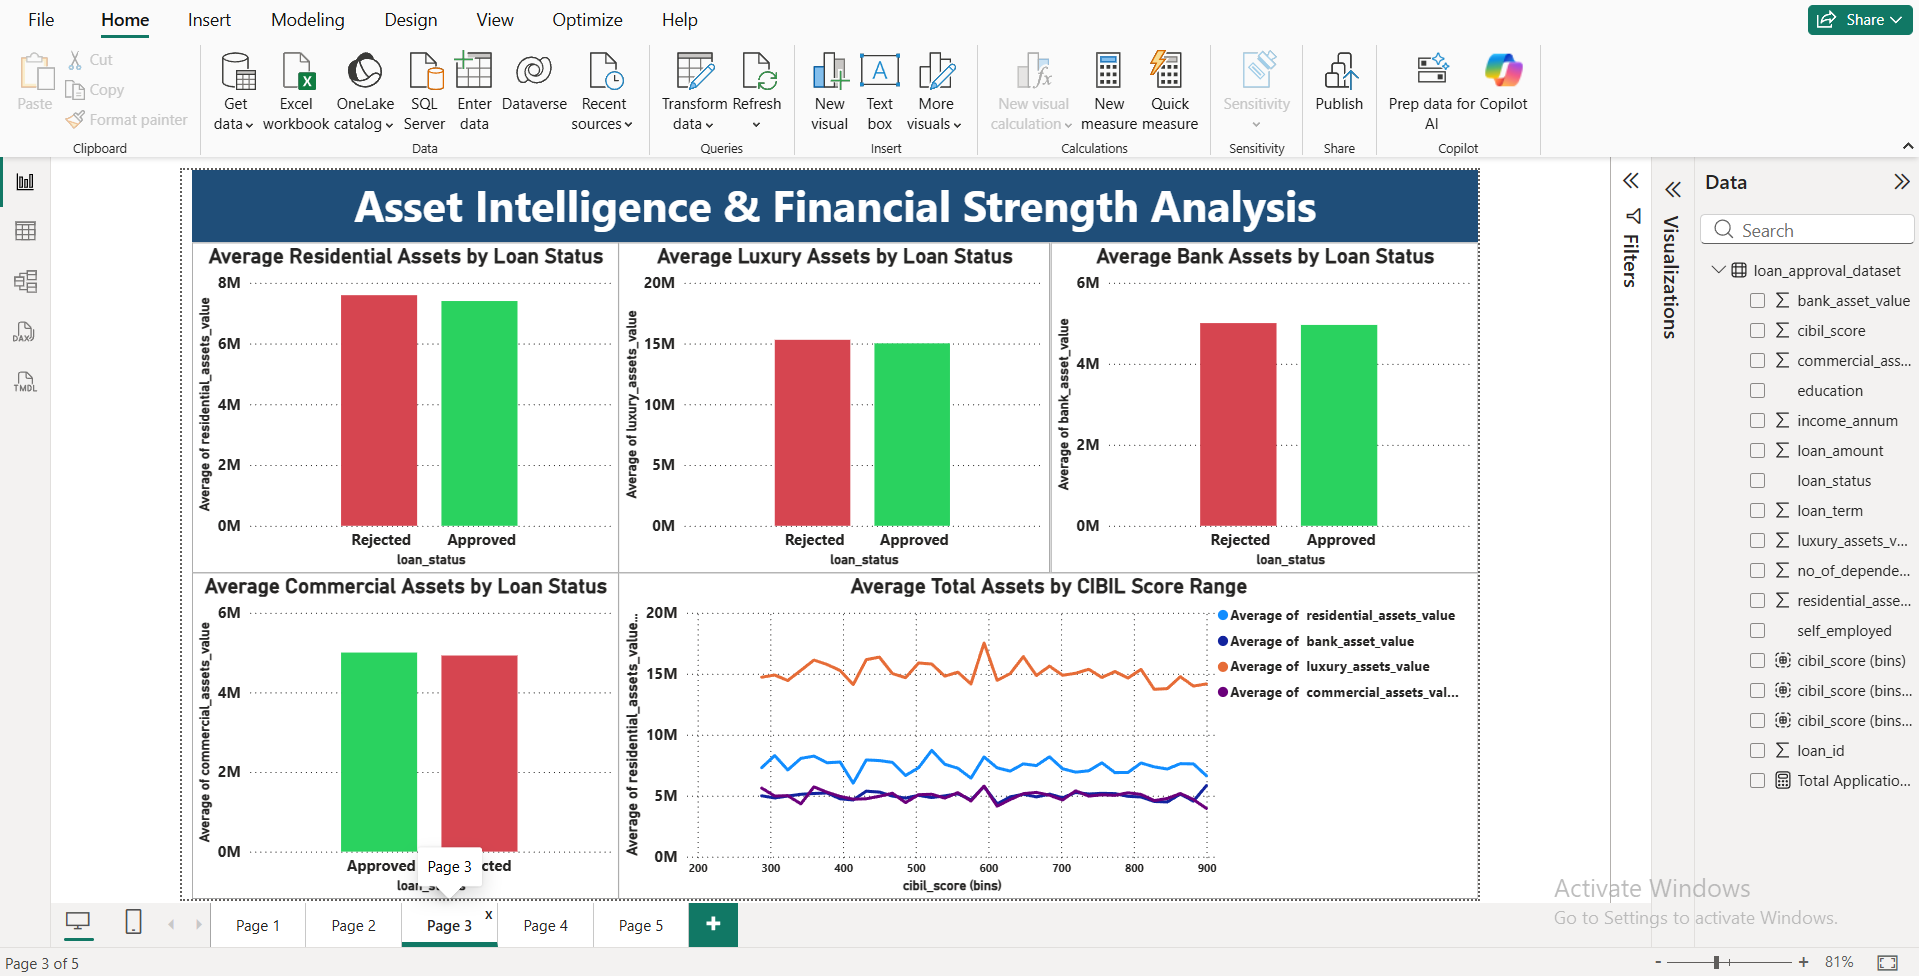

What the dashboard file says about the page in this screenshot:
{"tool":"powerbi","page":{"name":"Page 3","canvas":[1280,720],"ordinal":2},"visuals":[{"type":"textbox","box":[9.6,0,1270.7,71.4],"z":0},{"type":"clusteredColumnChart","title":"Average Residential Assets by Loan Status","fields":{"Category":["loan_approval_dataset. loan_status"],"Y":["Avg(loan_approval_dataset. residential_assets_value)"]},"box":[9.6,71.4,421.3,326.6],"z":1000},{"type":"clusteredColumnChart","title":"Average Commercial Assets by Loan Status","fields":{"Category":["loan_approval_dataset. loan_status"],"Y":["Avg(loan_approval_dataset. commercial_assets_value)"]},"box":[9.6,397.9,421.3,322.5],"z":2000},{"type":"clusteredColumnChart","title":"Average Luxury Assets by Loan Status","fields":{"Category":["loan_approval_dataset. loan_status"],"Y":["Avg(loan_approval_dataset. luxury_assets_value)"]},"box":[430.9,71.4,426.8,326.6],"z":3000},{"type":"clusteredColumnChart","title":"Average Bank Assets by Loan Status","fields":{"Category":["loan_approval_dataset. loan_status"],"Y":["Avg(loan_approval_dataset. bank_asset_value)"]},"box":[857.6,71.4,422.6,326.6],"z":4000},{"type":"lineChart","title":"Average Total Assets by CIBIL Score Range","fields":{"Category":["loan_approval_dataset.cibil_score (bins)"],"Y":["Avg(loan_approval_dataset. residential_assets_value)","Avg(loan_approval_dataset. bank_asset_value)","Avg(loan_approval_dataset. luxury_assets_value)","Avg(loan_approval_dataset. commercial_assets_value)"]},"box":[430.9,397.9,849.4,322.5],"z":5000}]}

Visuals, with their boxes on the page's 1280x720 design canvas (x1, y1, x2, y2). These are canvas units, not pixel positions in the 1919x976 screenshot, which may show the page scaled, cropped or inside an application window:
textbox: box=[10, 0, 1280, 71]
"Average Residential Assets by Loan Status" clusteredColumnChart: box=[10, 71, 431, 398]
"Average Commercial Assets by Loan Status" clusteredColumnChart: box=[10, 398, 431, 720]
"Average Luxury Assets by Loan Status" clusteredColumnChart: box=[431, 71, 858, 398]
"Average Bank Assets by Loan Status" clusteredColumnChart: box=[858, 71, 1280, 398]
"Average Total Assets by CIBIL Score Range" lineChart: box=[431, 398, 1280, 720]
